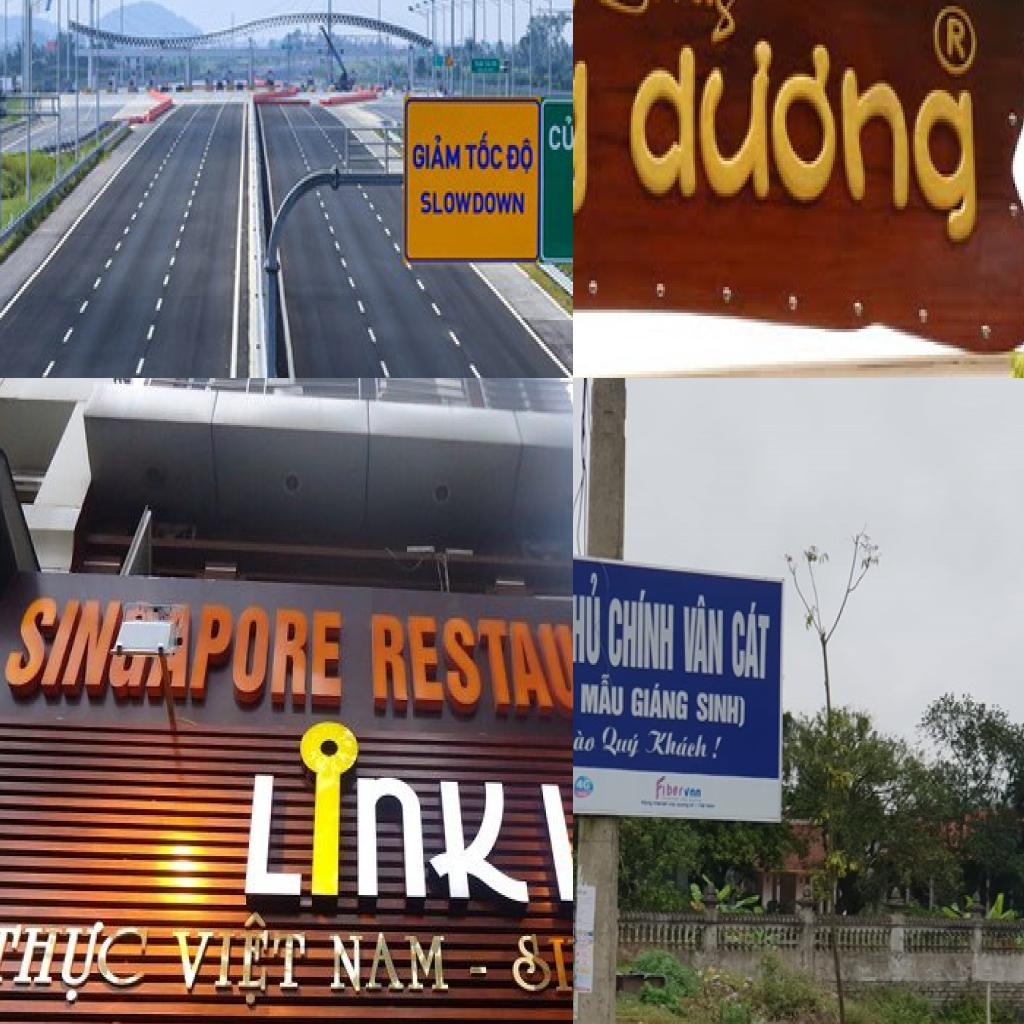text: (629, 38, 985, 258), (233, 718, 533, 916), (364, 608, 573, 715), (184, 596, 346, 712), (163, 903, 312, 1012), (0, 916, 158, 1008), (2, 589, 126, 704), (319, 920, 454, 1000), (591, 0, 759, 47), (606, 581, 678, 675), (511, 928, 573, 1000), (682, 589, 727, 678), (730, 596, 774, 684), (418, 186, 526, 219), (573, 569, 603, 668), (631, 676, 691, 724), (577, 672, 626, 722), (644, 728, 711, 762), (694, 688, 746, 731), (411, 133, 461, 174), (645, 772, 707, 802), (466, 130, 506, 174), (602, 726, 644, 762), (506, 136, 534, 178), (547, 113, 573, 154), (573, 719, 598, 756), (710, 733, 726, 766), (575, 774, 593, 792)
